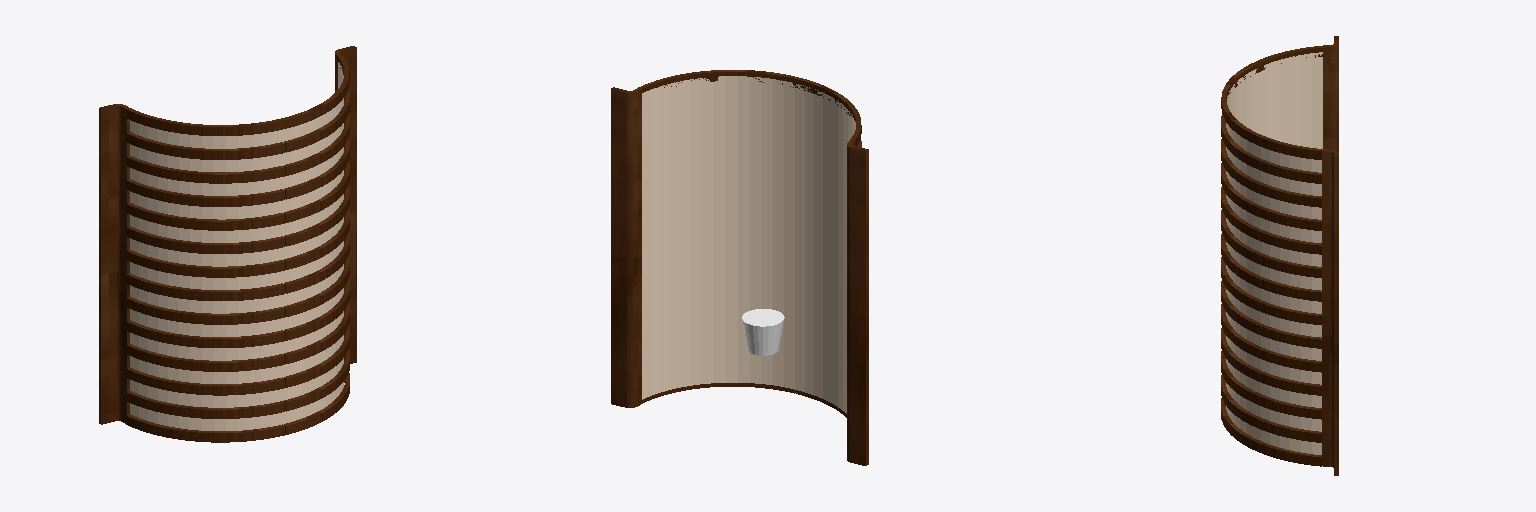
3 renders of one model, left to right at view 1: azimuth 30°, elevation 25°; view 2: azimuth 150°, elevation 25°; view 3: azimuth 270°, elevation 25°, orthographic.
Parts seen in each view (by area): view 1: Mesh54_Component_12_1_Group1_Model, Mesh56_Component_12_2_Group1_Model, Mesh25_Component_11_13_Group2_Group1_Model, Mesh7_Component_11_4_Group2_Group1_Model, Mesh11_Component_11_6_Group2_Group1_Model, Mesh15_Component_11_8_Group2_Group1_Model, Mesh21_Component_11_11_Group2_Group1_Model, Mesh3_Component_11_2_Group2_Group1_Model, Mesh13_Component_11_7_Group2_Group1_Model, Mesh19_Component_11_10_Group2_Group1_Model, Mesh17_Component_11_9_Group2_Group1_Model, Mesh5_Component_11_3_Group2_Group1_Model (+28 smaller); view 2: Mesh56_Component_12_2_Group1_Model, Mesh54_Component_12_1_Group1_Model, Mesh37_Component_11_19_Group2_Group1_Model, Mesh43_Component_11_22_Group2_Group1_Model, Mesh27_Component_11_14_Group2_Group1_Model, Mesh47_Component_11_24_Group2_Group1_Model, Mesh45_Component_11_23_Group2_Group1_Model, Mesh35_Component_11_18_Group2_Group1_Model, Mesh39_Component_11_20_Group2_Group1_Model, Mesh41_Component_11_21_Group2_Group1_Model, Mesh51_Component_11_26_Group2_Group1_Model, Mesh49_Component_11_25_Group2_Group1_Model (+20 smaller); view 3: Mesh56_Component_12_2_Group1_Model, Mesh25_Component_11_13_Group2_Group1_Model, Mesh23_Component_11_12_Group2_Group1_Model, Mesh54_Component_12_1_Group1_Model, Mesh21_Component_11_11_Group2_Group1_Model, Mesh46_Component_11_23_Group2_Group1_Model, Mesh38_Component_11_19_Group2_Group1_Model, Mesh44_Component_11_22_Group2_Group1_Model, Mesh42_Component_11_21_Group2_Group1_Model, Mesh48_Component_11_24_Group2_Group1_Model, Mesh52_Component_11_26_Group2_Group1_Model, Mesh53_Component_16_1_Component_13_1_Group1_Model (+22 smaller).
Boxes of the visible parts, x1=… form: Mesh54_Component_12_1_Group1_Model: x1=99, y1=104, x2=129, y2=424; Mesh56_Component_12_2_Group1_Model: x1=335, y1=46, x2=356, y2=363; Mesh25_Component_11_13_Group2_Group1_Model: x1=130, y1=120, x2=282, y2=148; Mesh7_Component_11_4_Group2_Group1_Model: x1=130, y1=333, x2=282, y2=360; Mesh11_Component_11_6_Group2_Group1_Model: x1=130, y1=285, x2=282, y2=313; Mesh15_Component_11_8_Group2_Group1_Model: x1=130, y1=238, x2=282, y2=266; Mesh21_Component_11_11_Group2_Group1_Model: x1=130, y1=168, x2=282, y2=195; Mesh3_Component_11_2_Group2_Group1_Model: x1=130, y1=380, x2=282, y2=407; Mesh13_Component_11_7_Group2_Group1_Model: x1=130, y1=262, x2=282, y2=289; Mesh19_Component_11_10_Group2_Group1_Model: x1=130, y1=191, x2=282, y2=219; Mesh17_Component_11_9_Group2_Group1_Model: x1=130, y1=215, x2=282, y2=242; Mesh5_Component_11_3_Group2_Group1_Model: x1=130, y1=356, x2=282, y2=383; Mesh56_Component_12_2_Group1_Model: x1=611, y1=87, x2=641, y2=407; Mesh54_Component_12_1_Group1_Model: x1=847, y1=140, x2=868, y2=465; Mesh37_Component_11_19_Group2_Group1_Model: x1=642, y1=241, x2=794, y2=280; Mesh43_Component_11_22_Group2_Group1_Model: x1=642, y1=170, x2=794, y2=210; Mesh27_Component_11_14_Group2_Group1_Model: x1=642, y1=359, x2=794, y2=399; Mesh47_Component_11_24_Group2_Group1_Model: x1=642, y1=123, x2=794, y2=163; Mesh45_Component_11_23_Group2_Group1_Model: x1=642, y1=147, x2=794, y2=186; Mesh35_Component_11_18_Group2_Group1_Model: x1=642, y1=264, x2=794, y2=304; Mesh39_Component_11_20_Group2_Group1_Model: x1=642, y1=217, x2=794, y2=257; Mesh41_Component_11_21_Group2_Group1_Model: x1=642, y1=194, x2=794, y2=234; Mesh51_Component_11_26_Group2_Group1_Model: x1=642, y1=76, x2=794, y2=116; Mesh49_Component_11_25_Group2_Group1_Model: x1=642, y1=100, x2=794, y2=139; Mesh56_Component_12_2_Group1_Model: x1=1322, y1=149, x2=1338, y2=475; Mesh25_Component_11_13_Group2_Group1_Model: x1=1227, y1=52, x2=1322, y2=111; Mesh23_Component_11_12_Group2_Group1_Model: x1=1231, y1=76, x2=1322, y2=123; Mesh54_Component_12_1_Group1_Model: x1=1323, y1=36, x2=1338, y2=151; Mesh21_Component_11_11_Group2_Group1_Model: x1=1243, y1=99, x2=1322, y2=135; Mesh46_Component_11_23_Group2_Group1_Model: x1=1221, y1=193, x2=1321, y2=254; Mesh38_Component_11_19_Group2_Group1_Model: x1=1221, y1=287, x2=1321, y2=348; Mesh44_Component_11_22_Group2_Group1_Model: x1=1221, y1=216, x2=1321, y2=277; Mesh42_Component_11_21_Group2_Group1_Model: x1=1221, y1=240, x2=1321, y2=301; Mesh48_Component_11_24_Group2_Group1_Model: x1=1221, y1=169, x2=1321, y2=230; Mesh52_Component_11_26_Group2_Group1_Model: x1=1221, y1=122, x2=1321, y2=183; Mesh53_Component_16_1_Component_13_1_Group1_Model: x1=1221, y1=98, x2=1322, y2=159.
Size of the model in its own units: 3.35 by 3.95 by 1.35.
3 materials, 1 textured.